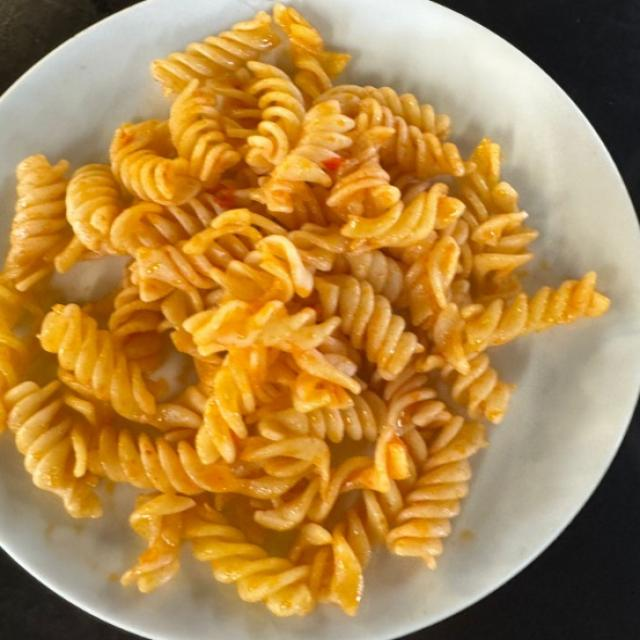ana_yemek: (0, 0, 612, 622)
